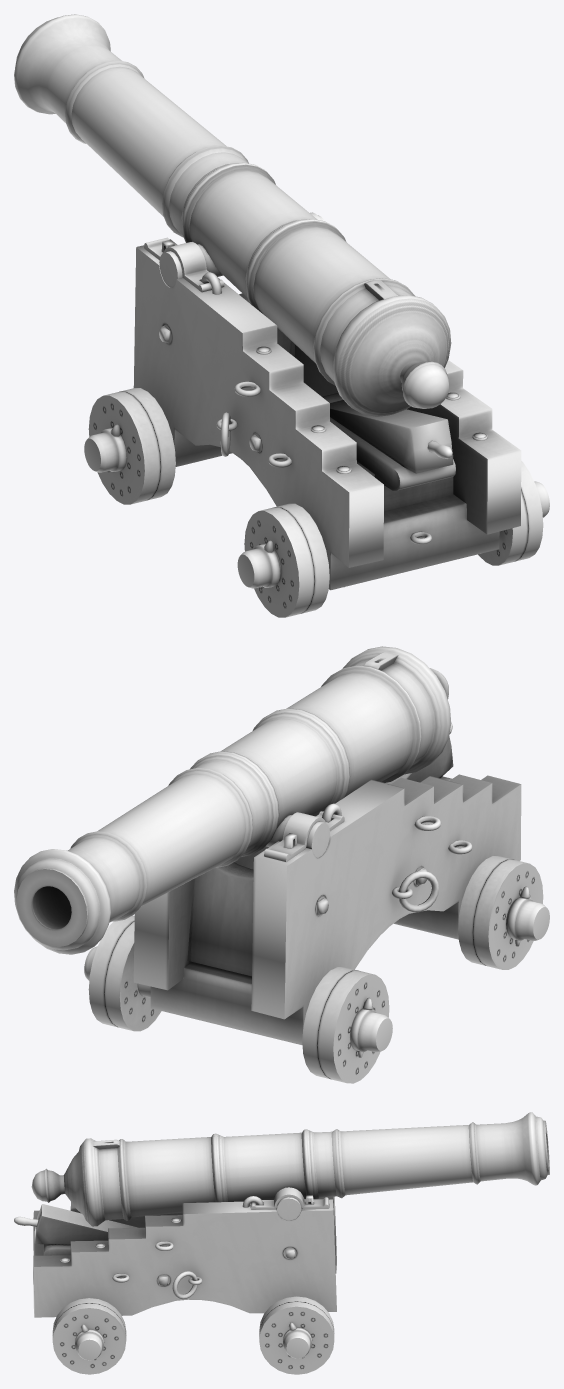
Rendered from cannon.fbx.
3 views of the same model, one above another, from view 1: azimuth 30°, elevation 25°; view 2: azimuth 150°, elevation 25°; view 3: azimuth 270°, elevation 25° (orthographic). The views are drawn at different scales.
Parts seen in each view (by area): view 1: Cannon_Base; view 2: Cannon_Base; view 3: Cannon_Base.
Part boxes in pixels (box(x1,y1,x2,y2)): Cannon_Base: box(14, 14, 549, 617); Cannon_Base: box(14, 646, 549, 1083); Cannon_Base: box(14, 1112, 549, 1374).
Size of the model in its own units: 134 by 141 by 312.
